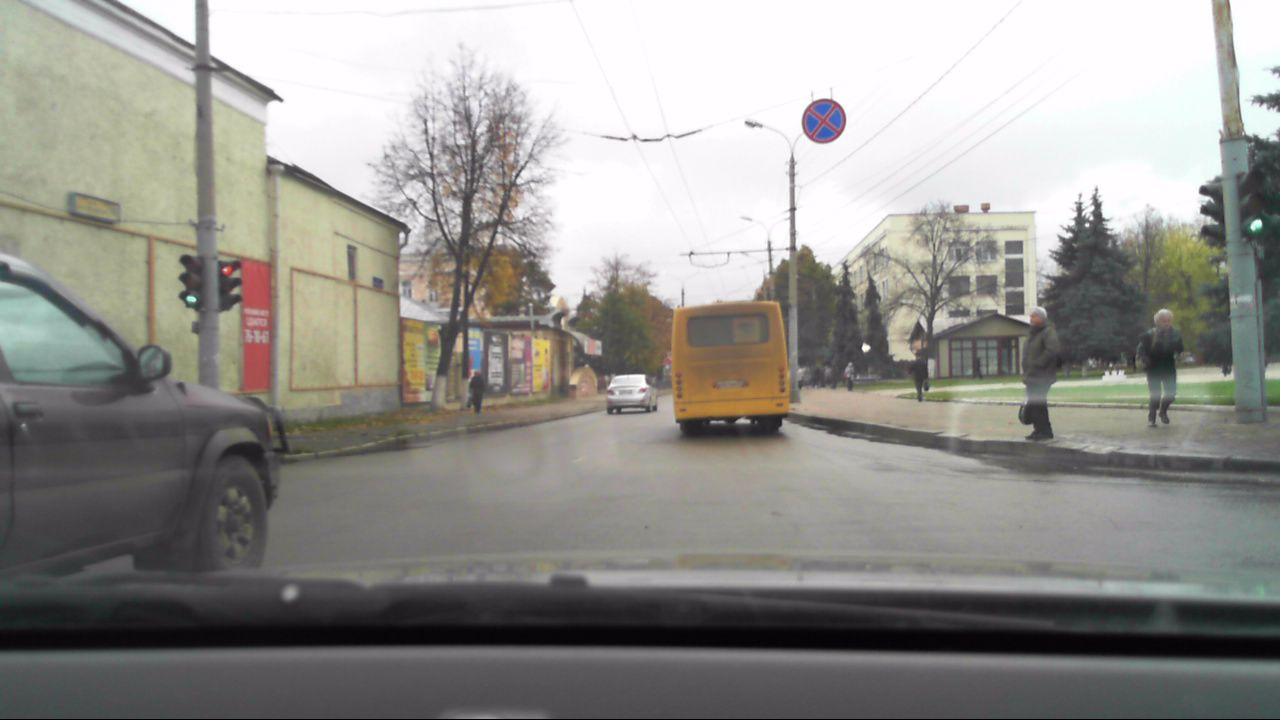No Parking: (800, 94, 847, 146)
